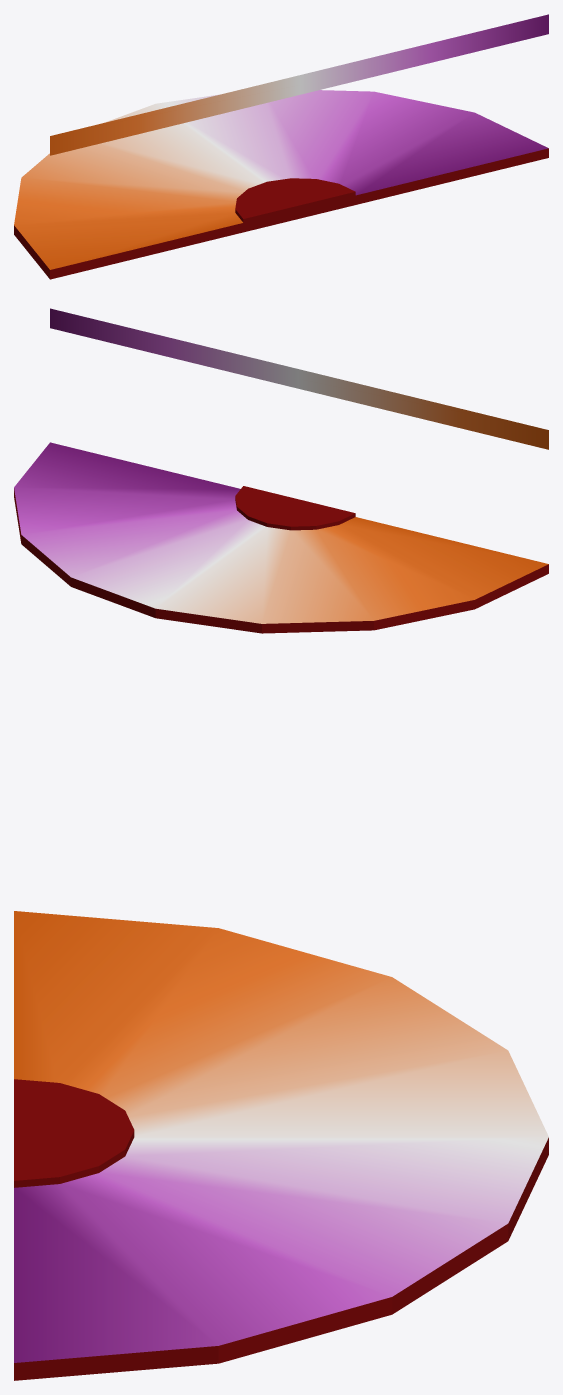
The model's file is AgreedDisagreeScale.fbx.
3 renders of one model, top to bottom at view 1: azimuth 30°, elevation 25°; view 2: azimuth 150°, elevation 25°; view 3: azimuth 270°, elevation 25°, orthographic. The views are drawn at different scales.
Visible parts, largest first — view 1: Platform, Plane; view 2: Platform, Plane; view 3: Platform.
Boxes of the visible parts, bbox=[...] form: Platform: bbox=[14, 90, 548, 279]; Plane: bbox=[50, 14, 548, 155]; Platform: bbox=[14, 442, 548, 633]; Plane: bbox=[50, 308, 548, 449]; Platform: bbox=[14, 911, 548, 1380].
Bounding box in the file's own units: 200 × 54.98 × 100.
